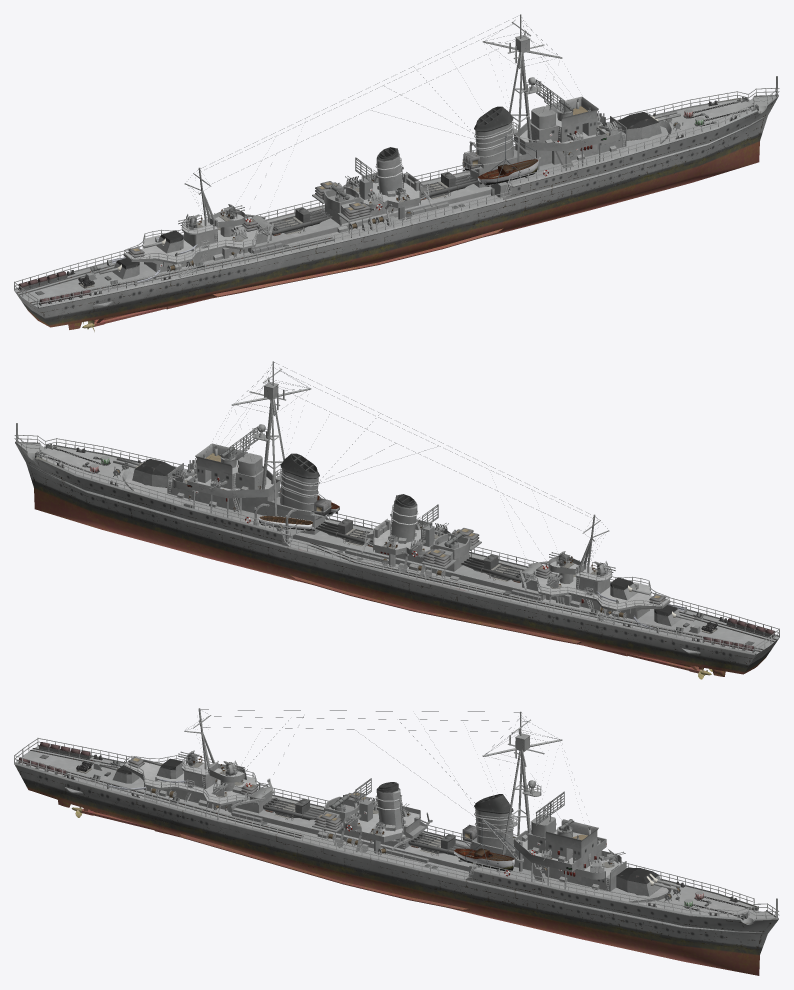
3 renders of one model, top to bottom at view 1: azimuth 30°, elevation 25°; view 2: azimuth 150°, elevation 25°; view 3: azimuth 330°, elevation 25°, orthographic.
Visible parts, largest first — view 1: Z39_Hull, Z39_Props, Z39_SideFence, Z39_TorpedoTubes.001, Z39_Vessel_1, Gun_Z39_main_turret, Z39_TorpedoTubes; view 2: Z39_Hull, Z39_Props, Z39_SideFence, Z39_TorpedoTubes.001, Gun_Z39_main_turret, Z39_TorpedoTubes; view 3: Z39_Hull, Z39_Props, Z39_SideFence, Gun_Z39_main_turret, Z39_Vessel_1, Z39_TorpedoTubes.001, Z39_TorpedoTubes, Z39_Cables.
Boxes of the visible parts, x1,y1,x2,y2 form: Z39_Hull: (14, 14, 778, 327); Z39_Props: (16, 76, 777, 305); Z39_SideFence: (14, 80, 779, 306); Z39_TorpedoTubes.001: (269, 207, 332, 235); Z39_Vessel_1: (477, 159, 538, 184); Gun_Z39_main_turret: (618, 112, 661, 140); Z39_TorpedoTubes: (421, 172, 478, 200); Z39_Hull: (15, 361, 779, 674); Z39_Props: (16, 423, 777, 652); Z39_SideFence: (14, 427, 779, 653); Z39_TorpedoTubes.001: (461, 554, 525, 582); Gun_Z39_main_turret: (132, 458, 175, 487); Z39_TorpedoTubes: (315, 519, 372, 547); Z39_Hull: (14, 708, 778, 975); Z39_Props: (16, 742, 777, 920); Z39_SideFence: (14, 738, 779, 919); Gun_Z39_main_turret: (616, 868, 661, 896); Z39_Vessel_1: (454, 848, 514, 871); Z39_TorpedoTubes.001: (263, 797, 323, 820); Z39_TorpedoTubes: (408, 833, 470, 855); Z39_Cables: (185, 709, 559, 815).
Size of the model in its own units: 127 by 33.1 by 12.35.
Materials: 15 (15 with a texture image).
